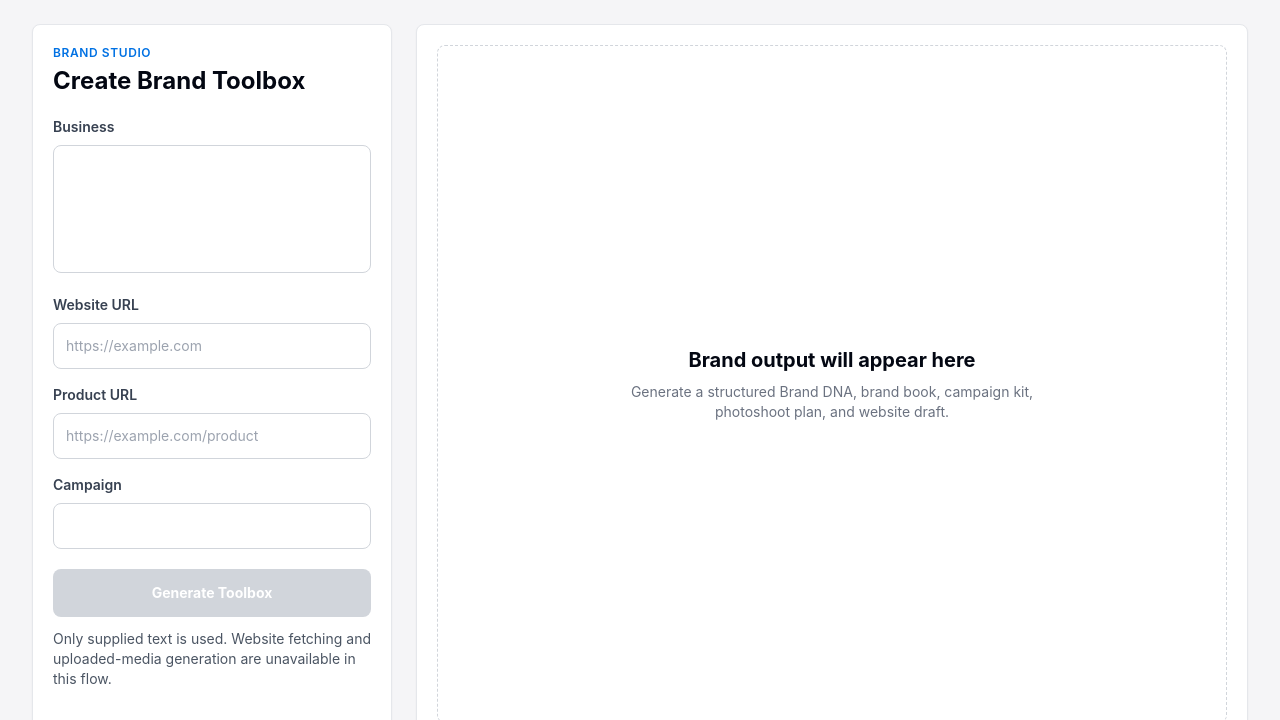
it: rejects contradictory generation receipts without rendering or publishing their draft
The width and height of the screenshot is (1280, 720).
Type "Owner described professional services" into the text box labelled "Business".
click(212, 209); type("Owner described professional services")  # box 53,145 -> 371,273
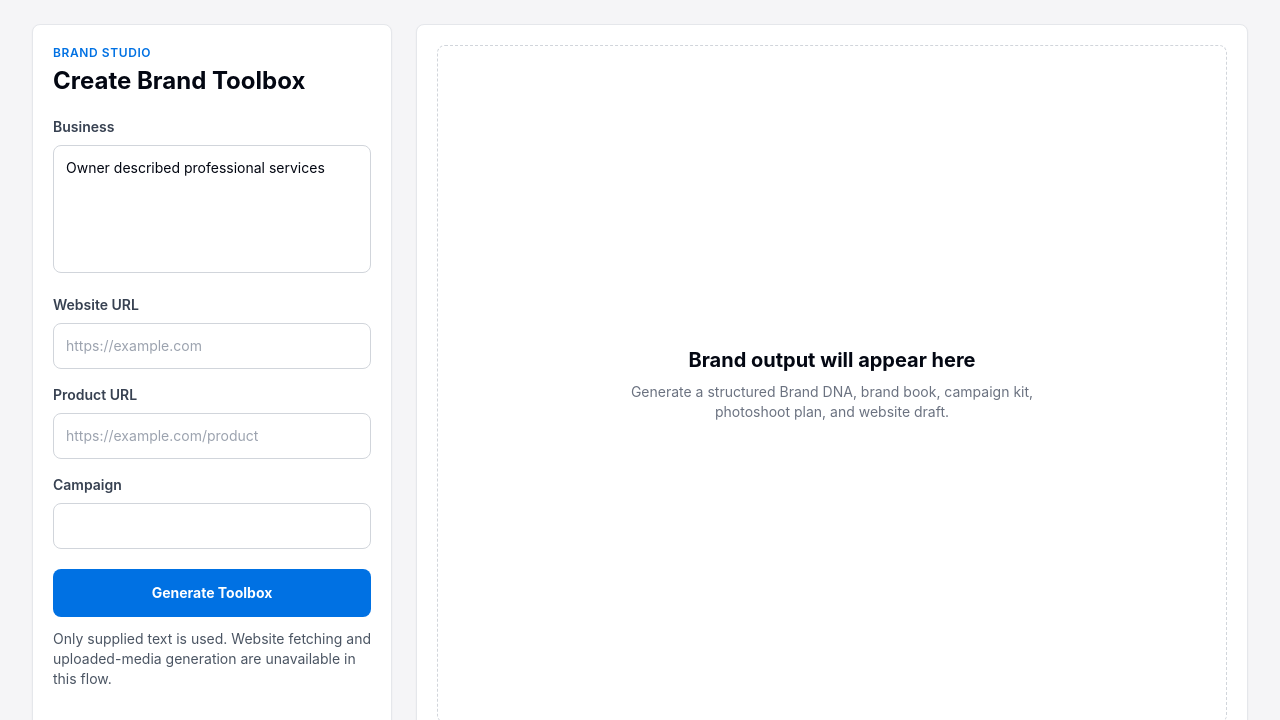
Check: the button "Generate Toolbox" is enabled
Click the button "Generate Toolbox".
click(212, 593)  # box 53,569 -> 371,617
(page scrolled)
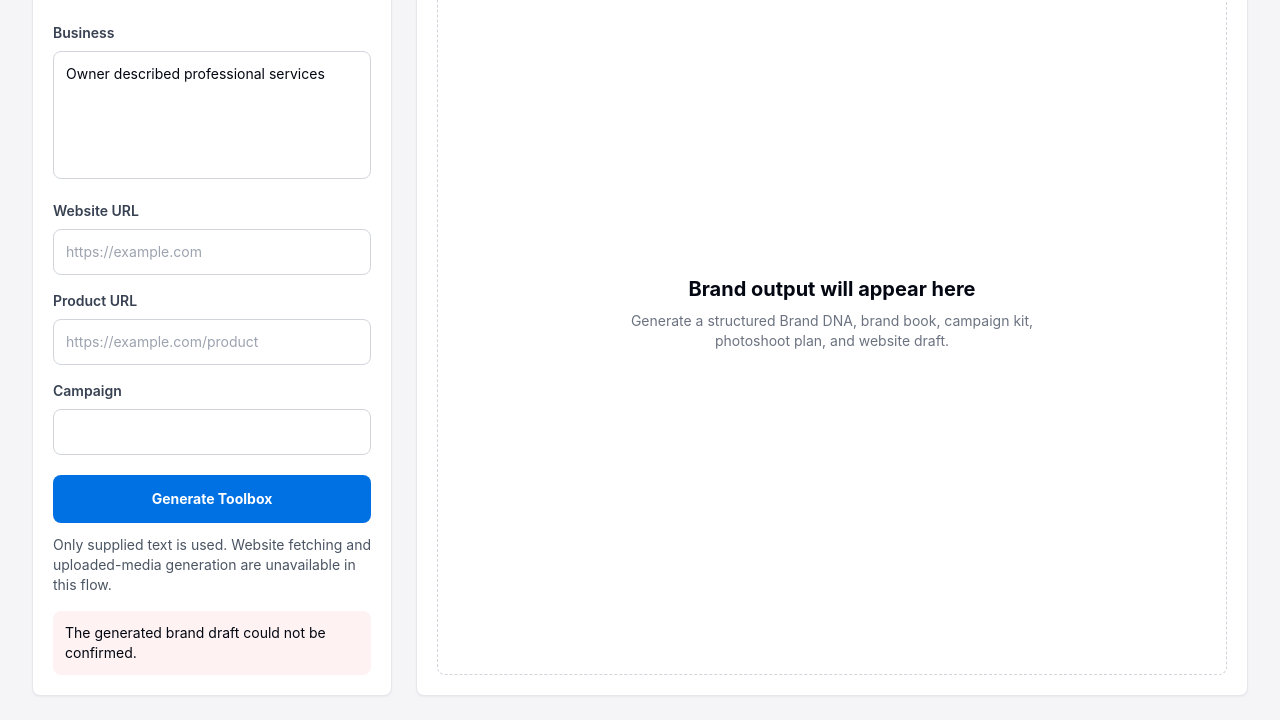
Check: the message reads "The generated brand draft could not be confirmed.", box 65,624 -> 326,661
